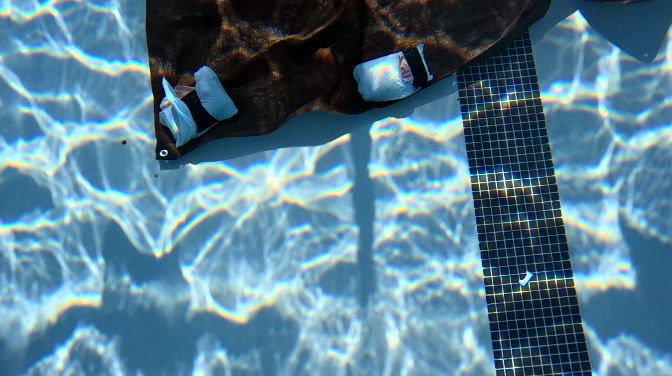sandbag: (146, 0, 534, 158)
